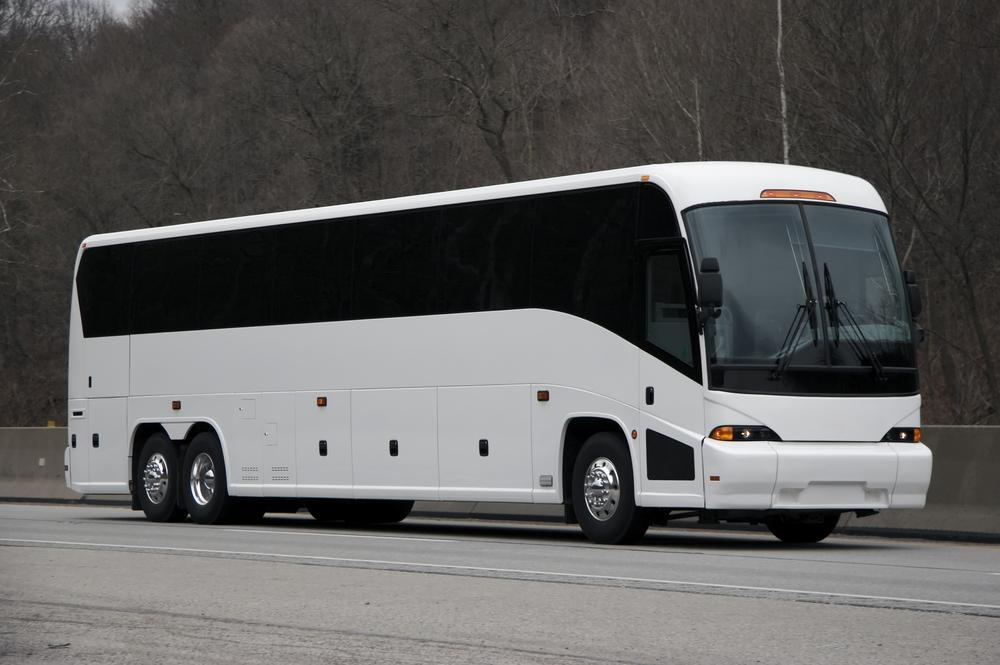Bus: (62, 162, 933, 547)
